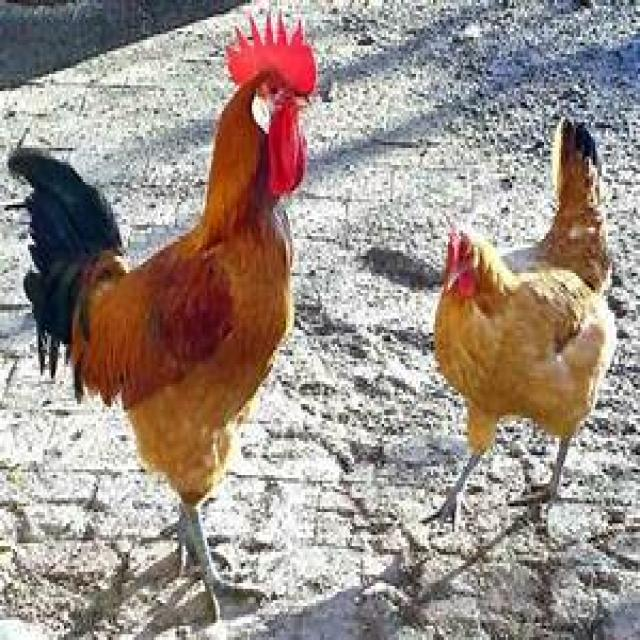animal: (2, 6, 316, 623), (418, 114, 617, 532)
